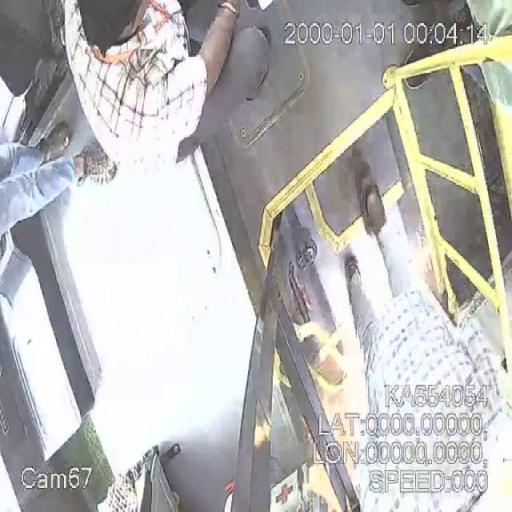persona: (337, 181, 512, 512), (60, 0, 242, 175)
